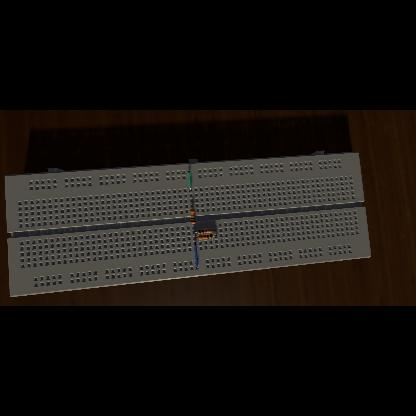breadboard: (5, 150, 371, 298)
resistor: (198, 234, 214, 240), (191, 210, 196, 224), (198, 230, 212, 235)
wire: (194, 242, 198, 268), (188, 171, 192, 191), (212, 230, 216, 231), (194, 232, 198, 233), (214, 235, 217, 236), (196, 237, 198, 238), (192, 206, 192, 210), (194, 224, 194, 228)
